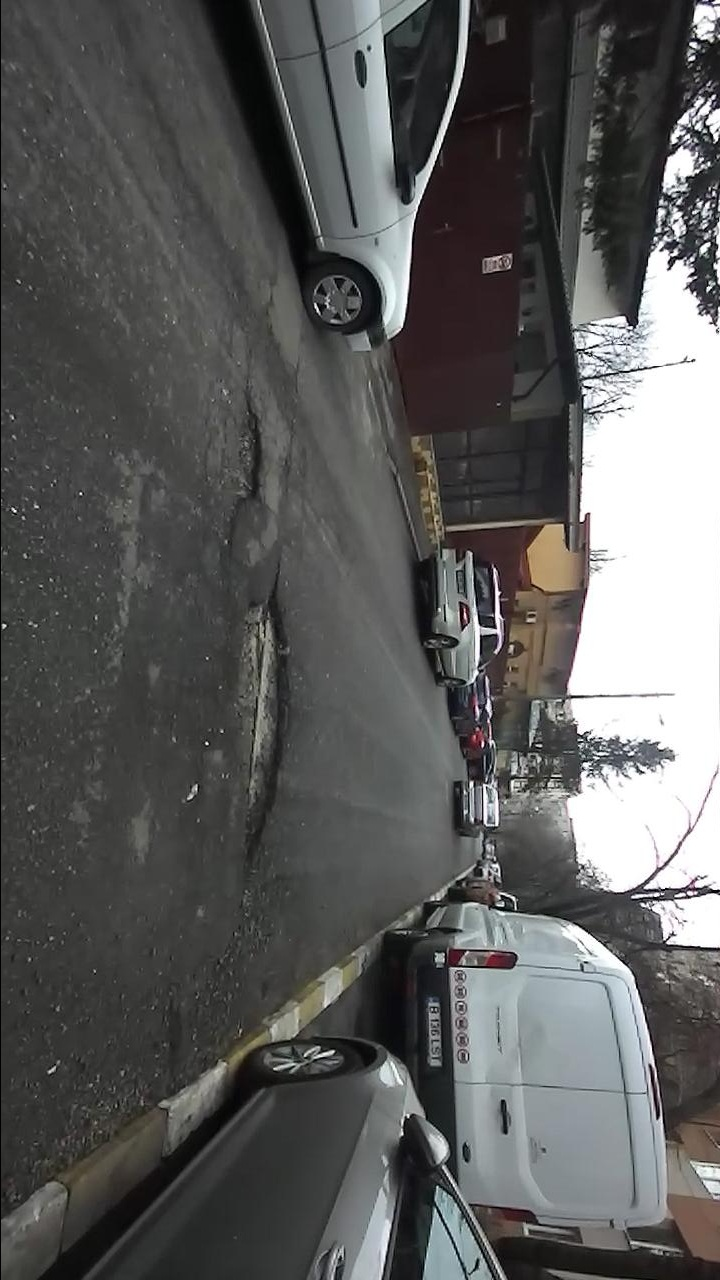pothole: (225, 586, 296, 875), (220, 392, 268, 521)
